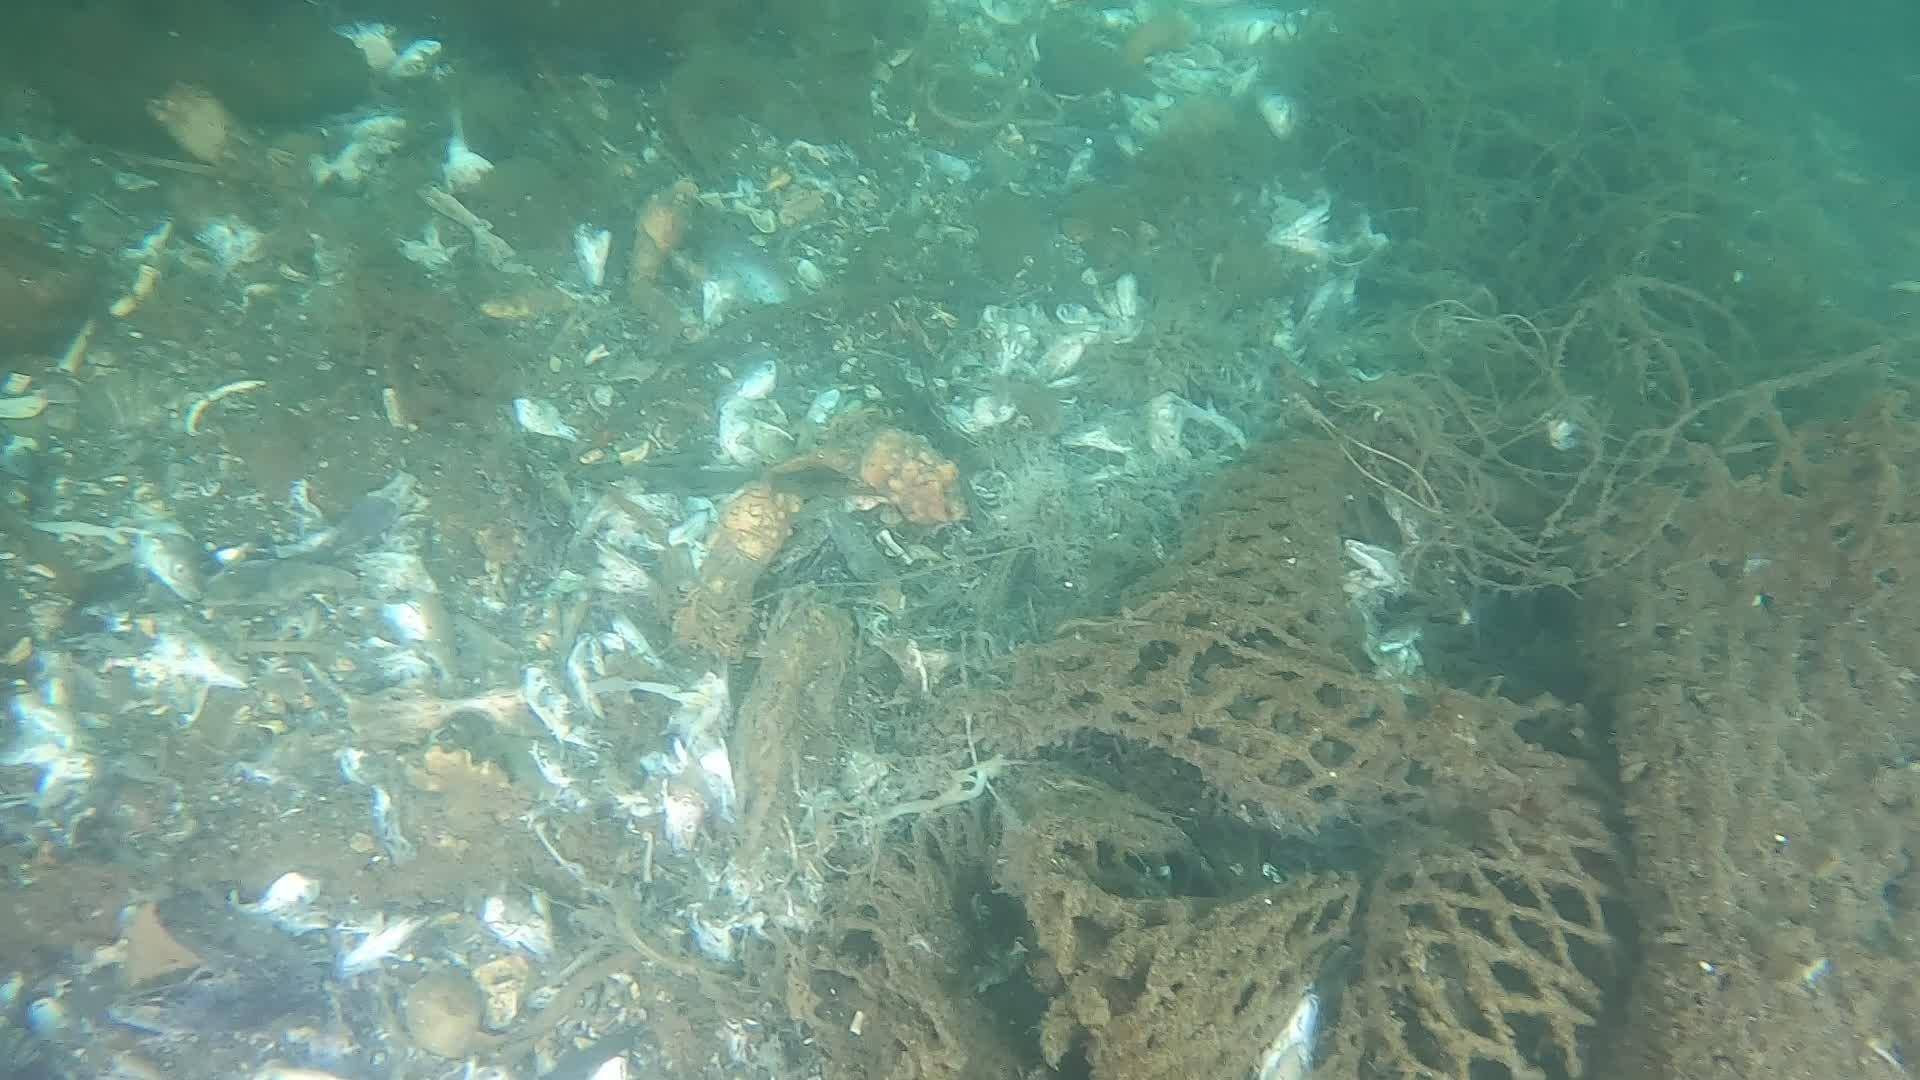fish net: (798, 410, 1920, 1080)
